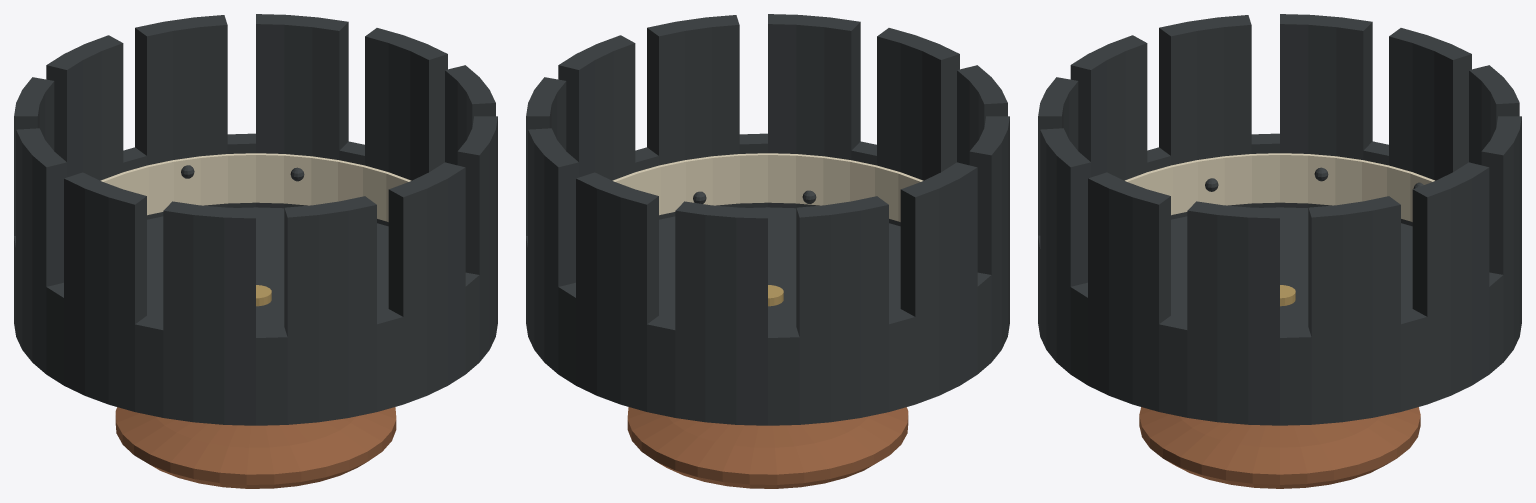
3 views of the same model, side by side, from view 1: azimuth 30°, elevation 25°; view 2: azimuth 150°, elevation 25°; view 3: azimuth 270°, elevation 25° (orthographic).
Visible parts, largest first — view 1: WholeOpenSlottedDrum, WholeTurnedGroundBase, WholeContinuousInnerImageBand; view 2: WholeOpenSlottedDrum, WholeTurnedGroundBase, WholeContinuousInnerImageBand; view 3: WholeOpenSlottedDrum, WholeTurnedGroundBase, WholeContinuousInnerImageBand.
Part boxes in pixels (x1,y1,x2,y2): WholeOpenSlottedDrum: (14, 14, 497, 425); WholeTurnedGroundBase: (115, 407, 396, 488); WholeContinuousInnerImageBand: (100, 153, 411, 221); WholeOpenSlottedDrum: (526, 14, 1009, 425); WholeTurnedGroundBase: (627, 407, 908, 488); WholeContinuousInnerImageBand: (612, 153, 923, 221); WholeOpenSlottedDrum: (1038, 14, 1521, 425); WholeTurnedGroundBase: (1139, 407, 1420, 488); WholeContinuousInnerImageBand: (1125, 153, 1434, 221).
Size of the model in its own units: 0.55 by 0.4 by 0.55.
